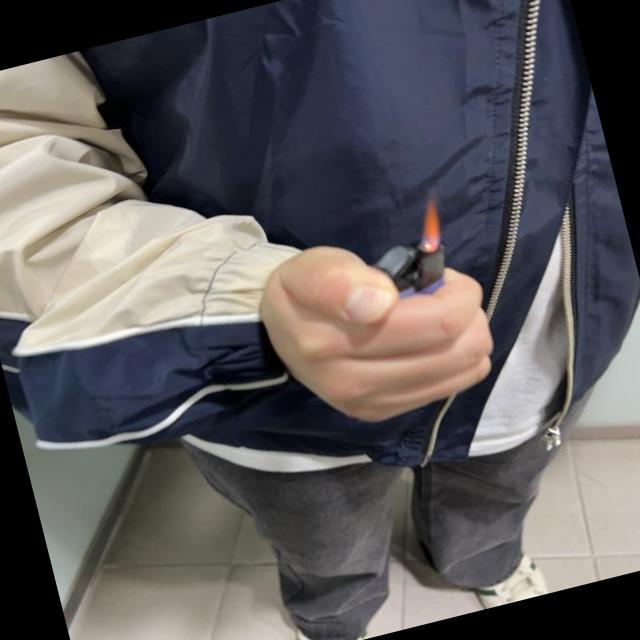Fire: (411, 192, 450, 256)
